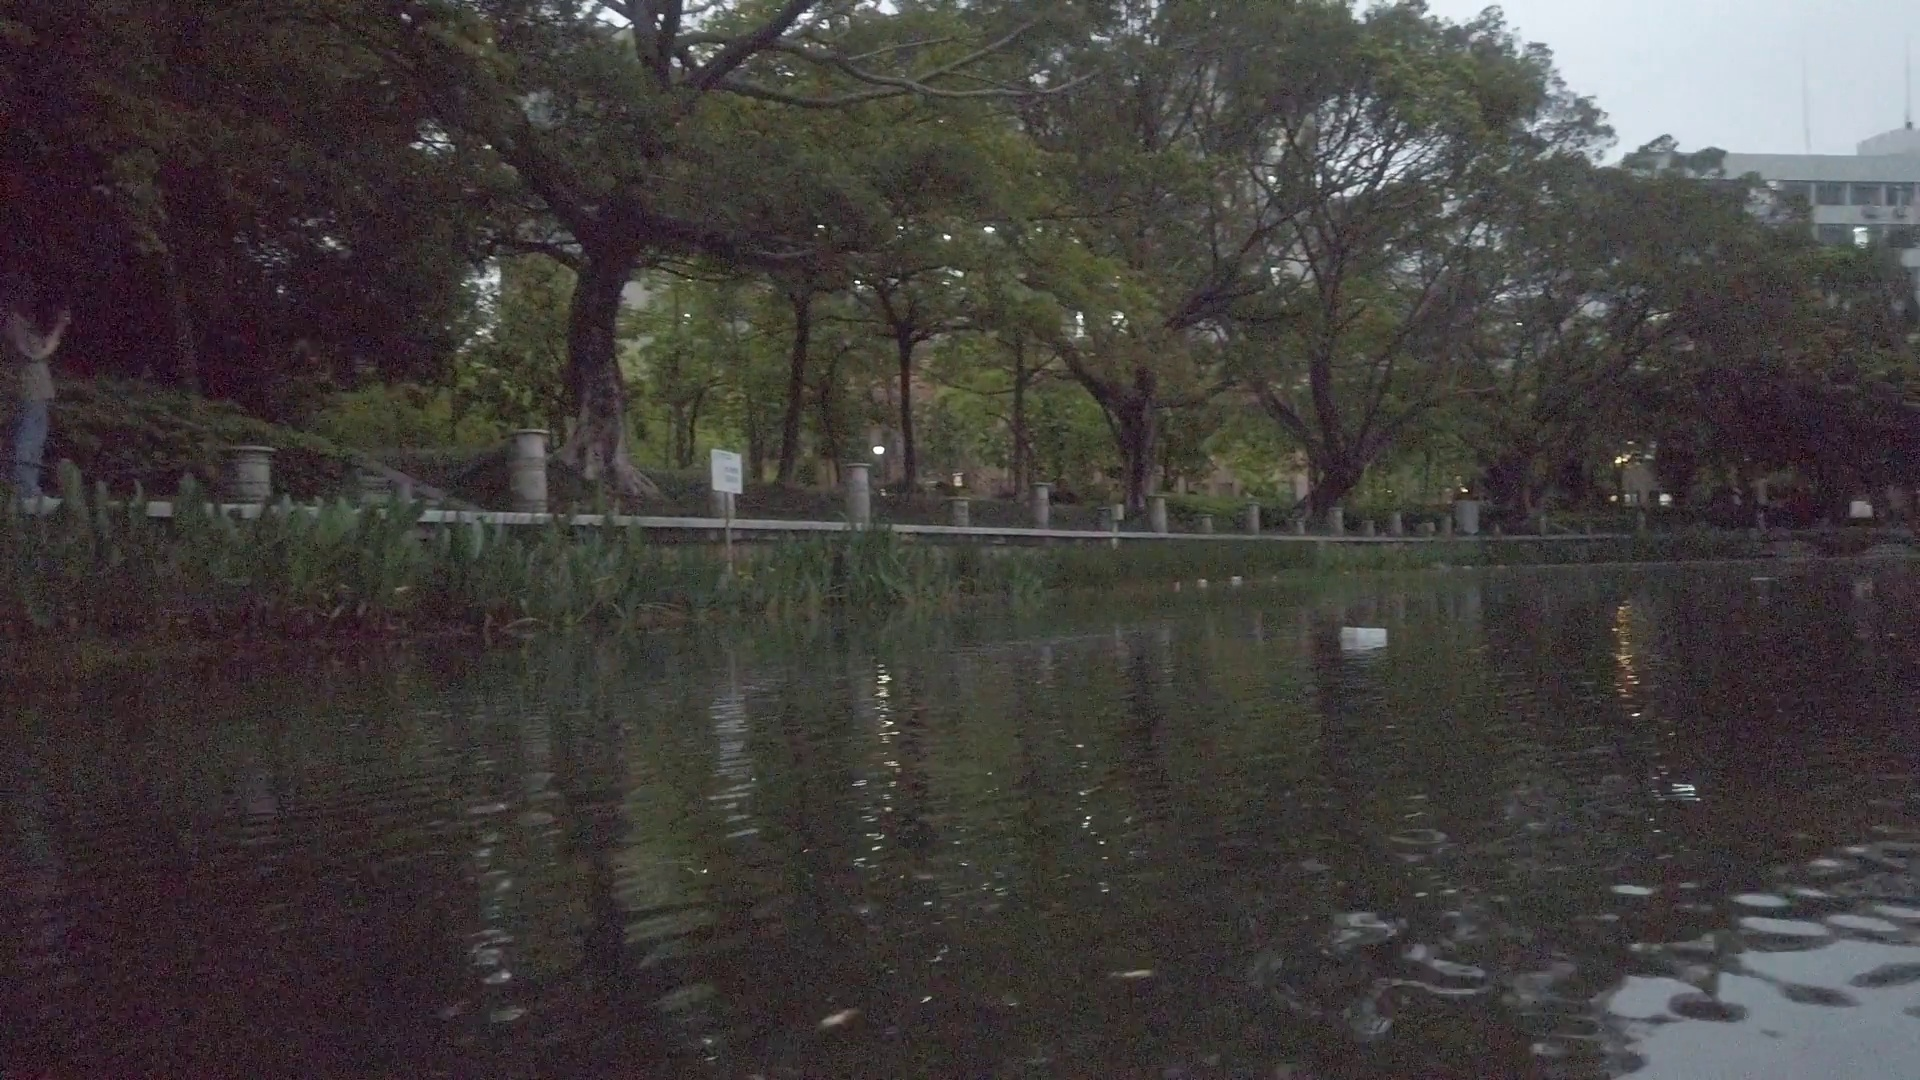carton: (1338, 626, 1386, 645)
